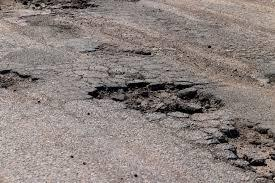pothole: (74, 67, 228, 117), (209, 120, 275, 174), (11, 0, 100, 17), (0, 64, 39, 93), (126, 47, 158, 58)
